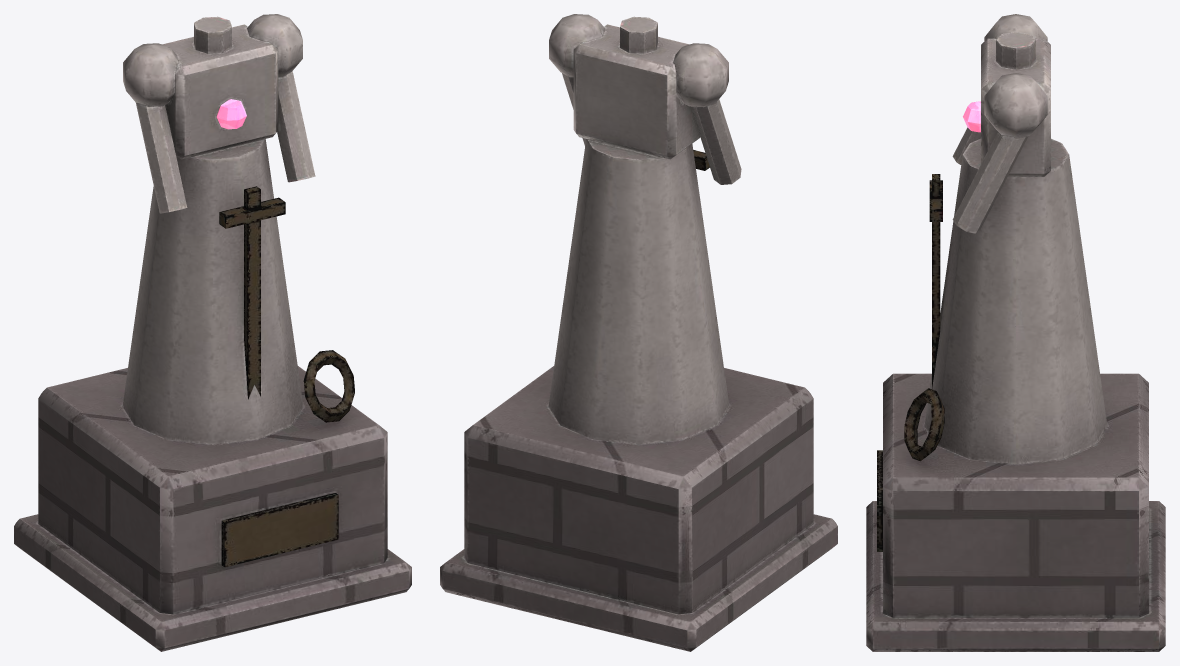
File: estatua_rei.glb
3 renders of one model, left to right at view 1: azimuth 30°, elevation 25°; view 2: azimuth 150°, elevation 25°; view 3: azimuth 270°, elevation 25°, orthographic.
Visible parts, largest first — view 1: estatua_rei; view 2: estatua_rei; view 3: estatua_rei.
Part boxes in pixels (x1,y1,x2,y2): estatua_rei: (14,14,411,651); estatua_rei: (440,14,837,651); estatua_rei: (866,14,1165,651).
Bounding box in the file's own units: 1.8 × 3.66 × 1.8.
1 material, 1 textured.
